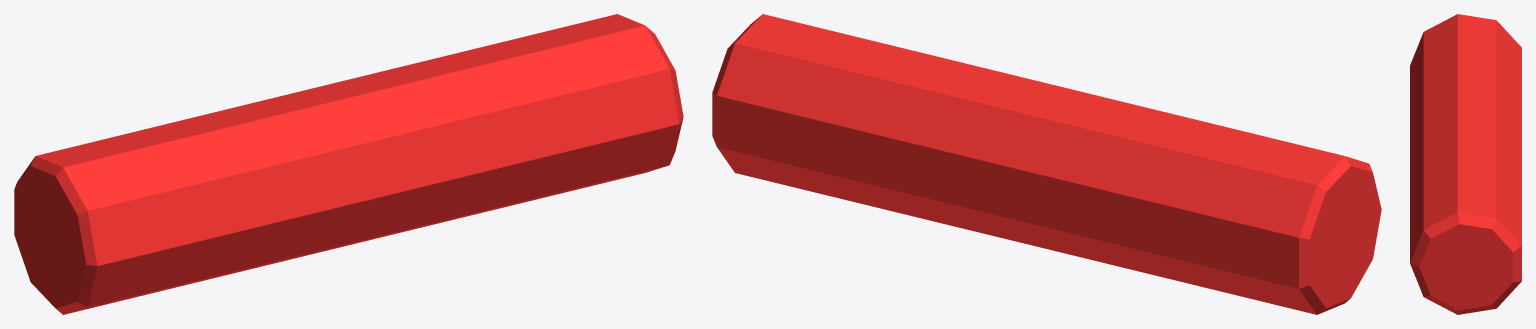
Rendered from chalk_3.fbx.
The picture shows the model from 3 angles, left to right: view 1: azimuth 30°, elevation 25°; view 2: azimuth 150°, elevation 25°; view 3: azimuth 270°, elevation 25°; orthographic projection. The views are drawn at different scales.
Visible parts, largest first — view 1: chalk_3_export; view 2: chalk_3_export; view 3: chalk_3_export.
Boxes of the visible parts, x1,y1,x2,y2 form: chalk_3_export: [14, 14, 683, 314]; chalk_3_export: [712, 14, 1381, 314]; chalk_3_export: [1410, 14, 1521, 314].
Size of the model in its own units: 14.65 by 3.44 by 3.39.
